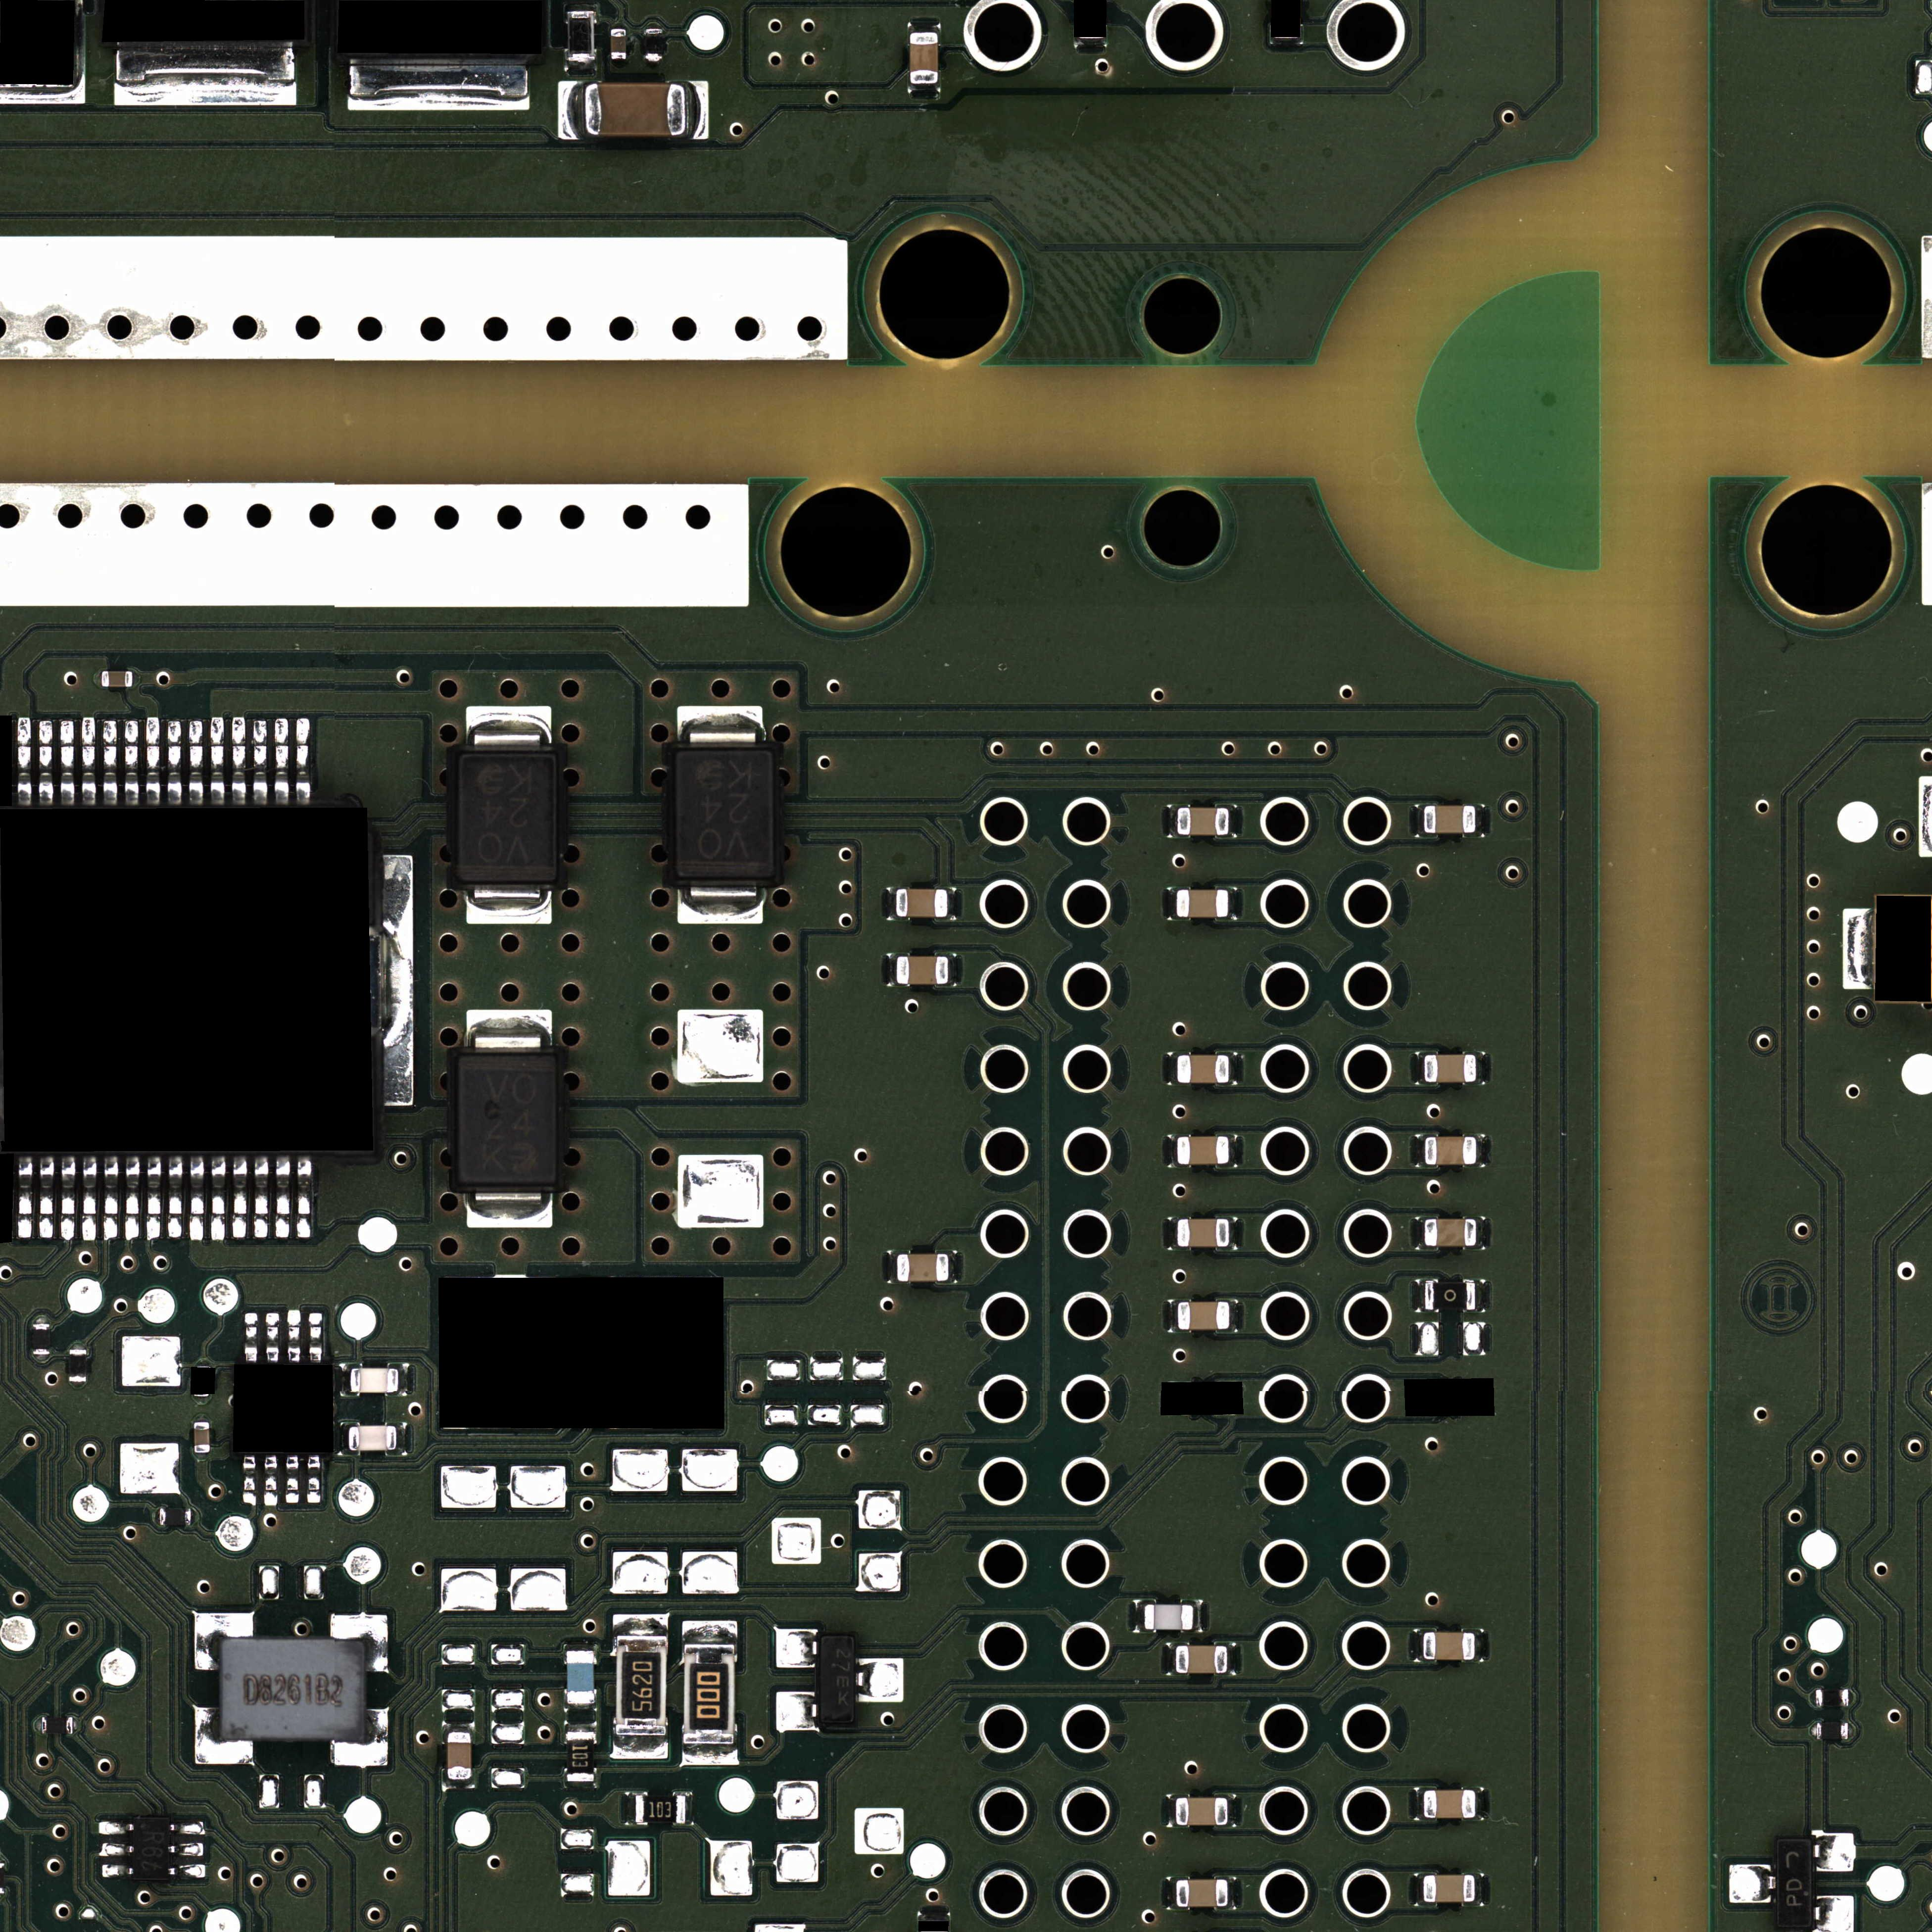Package: (216, 1638, 370, 1739), (671, 743, 777, 885), (455, 747, 559, 885), (455, 1051, 559, 1187), (584, 83, 686, 136), (683, 1644, 736, 1744), (616, 1635, 667, 1736), (1776, 1838, 1813, 1927), (819, 1635, 855, 1723), (133, 1817, 170, 1879), (895, 888, 948, 918), (897, 955, 948, 985), (1177, 1054, 1230, 1083), (1177, 1136, 1230, 1164), (1175, 1798, 1228, 1826), (1177, 1219, 1230, 1247), (1422, 1631, 1476, 1660), (1177, 807, 1230, 835), (566, 1651, 594, 1704), (909, 32, 938, 83), (1424, 805, 1476, 833), (1424, 1054, 1476, 1083), (1424, 1219, 1476, 1247), (1424, 1136, 1476, 1164), (1424, 1281, 1476, 1309), (1178, 1302, 1230, 1330), (1424, 1790, 1476, 1819), (1177, 890, 1228, 918), (1177, 1879, 1228, 1907), (897, 1254, 948, 1283), (1177, 1645, 1228, 1674), (1422, 1875, 1476, 1902), (635, 1796, 685, 1824), (566, 1732, 594, 1782), (568, 11, 594, 60), (1145, 1605, 1194, 1629), (350, 1368, 398, 1392), (349, 1426, 396, 1451), (448, 1732, 471, 1780), (644, 28, 662, 62), (1817, 1721, 1849, 1739), (41, 1716, 73, 1734), (69, 1350, 87, 1382), (32, 1323, 50, 1355), (1815, 1690, 1849, 1706), (101, 671, 133, 686), (610, 28, 626, 60), (159, 1509, 191, 1525), (195, 1422, 209, 1453)
Solder: (113, 48, 297, 106), (345, 65, 531, 111), (382, 855, 414, 1106), (195, 1707, 253, 1764), (195, 1614, 253, 1670), (467, 1189, 552, 1228), (467, 1010, 552, 1049), (467, 706, 550, 745), (331, 1615, 387, 1672), (467, 886, 552, 924), (678, 886, 763, 924), (334, 1709, 387, 1766), (678, 706, 763, 741), (1844, 908, 1874, 989), (856, 1658, 904, 1702), (1729, 1863, 1776, 1904), (1813, 1833, 1856, 1872), (777, 1629, 817, 1668), (777, 1691, 817, 1730), (1813, 1895, 1854, 1932), (81, 1155, 99, 1240), (274, 1157, 292, 1242), (60, 1157, 78, 1240), (559, 81, 584, 140), (166, 715, 182, 805), (16, 717, 32, 805), (37, 717, 53, 805), (81, 717, 97, 805), (58, 717, 74, 805), (145, 717, 161, 805), (124, 717, 140, 805), (101, 717, 117, 805), (188, 715, 203, 803), (207, 715, 223, 803), (230, 717, 246, 805), (251, 715, 267, 803), (272, 715, 288, 803), (295, 715, 311, 803), (104, 1155, 120, 1240), (126, 1155, 142, 1240), (295, 1157, 311, 1242), (189, 1157, 205, 1242), (686, 81, 709, 140), (18, 1155, 34, 1238), (39, 1155, 55, 1238), (147, 1157, 163, 1240), (168, 1157, 184, 1240), (253, 1157, 269, 1240), (232, 1157, 248, 1240), (211, 1157, 226, 1240), (612, 1736, 669, 1759), (681, 1621, 738, 1644), (612, 1614, 669, 1635), (681, 1744, 738, 1766), (287, 1309, 301, 1362), (264, 1454, 278, 1506), (308, 1313, 322, 1362), (244, 1313, 258, 1362), (265, 1313, 280, 1362), (242, 1456, 257, 1506), (285, 1454, 299, 1504), (308, 1454, 320, 1504), (97, 1821, 133, 1835), (170, 1865, 205, 1877), (170, 1822, 205, 1835), (99, 1844, 133, 1856), (170, 1844, 203, 1856), (103, 1865, 133, 1877), (625, 1792, 635, 1826), (398, 1362, 409, 1396), (340, 1364, 350, 1396), (396, 1422, 407, 1454), (1072, 39, 1109, 48), (1166, 1794, 1175, 1828), (1134, 1599, 1143, 1633), (908, 23, 941, 32), (1168, 886, 1177, 920), (1476, 803, 1484, 837), (564, 62, 598, 71), (1476, 1279, 1484, 1313), (948, 886, 957, 920), (1477, 1787, 1486, 1821), (442, 1723, 474, 1732), (564, 1723, 596, 1732), (1415, 1053, 1424, 1085), (1230, 1053, 1238, 1085), (1168, 1217, 1177, 1249), (1168, 1053, 1177, 1085), (340, 1422, 349, 1454), (442, 1780, 474, 1789), (1415, 1134, 1424, 1166), (1230, 805, 1238, 837), (1230, 1217, 1238, 1249), (1230, 1300, 1238, 1332), (1168, 1136, 1177, 1168), (1415, 1217, 1424, 1249), (948, 954, 957, 985), (1228, 1794, 1237, 1826), (1228, 1877, 1237, 1909), (1228, 1644, 1237, 1675), (1414, 1629, 1422, 1661), (1476, 1874, 1484, 1905), (908, 85, 941, 92), (564, 1644, 598, 1651), (686, 1792, 694, 1826), (1417, 1279, 1424, 1313), (888, 886, 895, 920), (1415, 803, 1422, 837), (888, 954, 895, 987), (1230, 886, 1237, 920), (1477, 1134, 1484, 1168), (1415, 1787, 1422, 1821), (1477, 1051, 1484, 1085), (1476, 1629, 1483, 1663), (1194, 1599, 1201, 1631), (564, 1782, 596, 1789), (1169, 1300, 1177, 1332), (1169, 805, 1177, 837), (1168, 1877, 1175, 1909), (1168, 1644, 1175, 1675), (888, 1251, 895, 1283), (564, 1704, 596, 1711), (950, 1251, 957, 1283), (564, 4, 596, 11), (1477, 1217, 1484, 1249), (1415, 1874, 1422, 1905), (918, 1914, 950, 1921), (1230, 1136, 1237, 1166), (1270, 39, 1304, 44), (1849, 1721, 1856, 1741), (34, 1716, 41, 1734), (193, 1453, 211, 1460), (69, 1382, 87, 1389), (1810, 1721, 1817, 1739), (193, 1396, 211, 1403), (69, 1343, 87, 1350), (1849, 1690, 1856, 1706), (610, 21, 626, 28), (191, 1509, 198, 1525), (646, 21, 662, 28), (94, 671, 101, 686), (34, 1316, 50, 1323), (133, 671, 140, 686), (73, 1718, 80, 1734), (193, 1415, 209, 1422), (196, 1359, 211, 1366), (610, 60, 628, 65), (644, 62, 662, 67), (1810, 1690, 1815, 1707), (154, 1509, 159, 1525)
